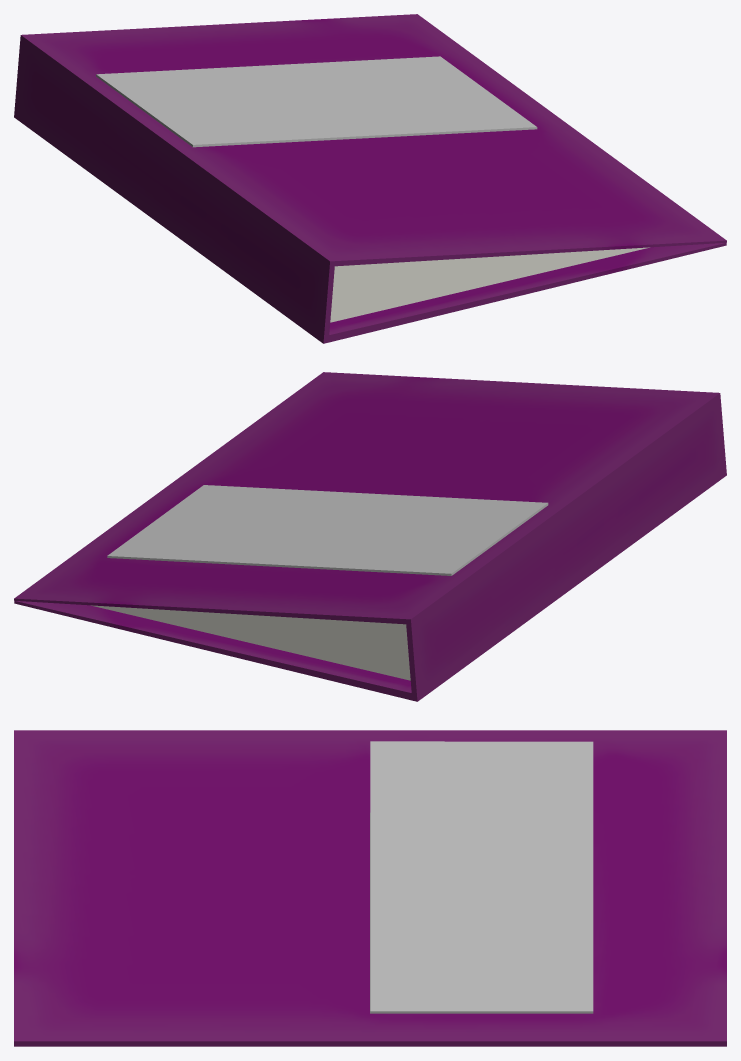
File: FileFolderA.fbx
The picture shows the model from 3 angles, top to bottom: view 1: azimuth 30°, elevation 25°; view 2: azimuth 150°, elevation 25°; view 3: azimuth 270°, elevation 25°; orthographic projection. The views are drawn at different scales.
Parts seen in each view (by area): view 1: FileFolderA; view 2: FileFolderA; view 3: FileFolderA.
Part boxes in pixels (<box>): FileFolderA: <box>14,14,726,343</box>; FileFolderA: <box>14,372,726,701</box>; FileFolderA: <box>14,730,726,1046</box>.
Bounding box in the file's own units: 26.95 × 5.16 × 35.8.
1 material, 1 textured.
